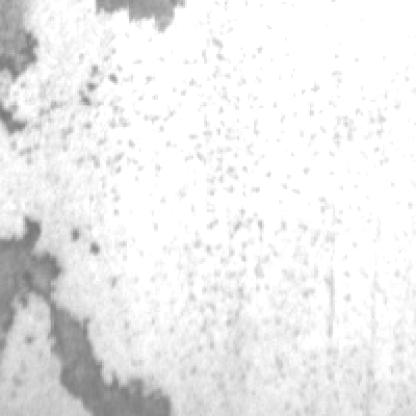patches: (52, 296, 181, 414), (3, 210, 64, 339), (3, 0, 46, 85), (92, 0, 196, 33)
pitted_surface: (68, 35, 412, 339)
